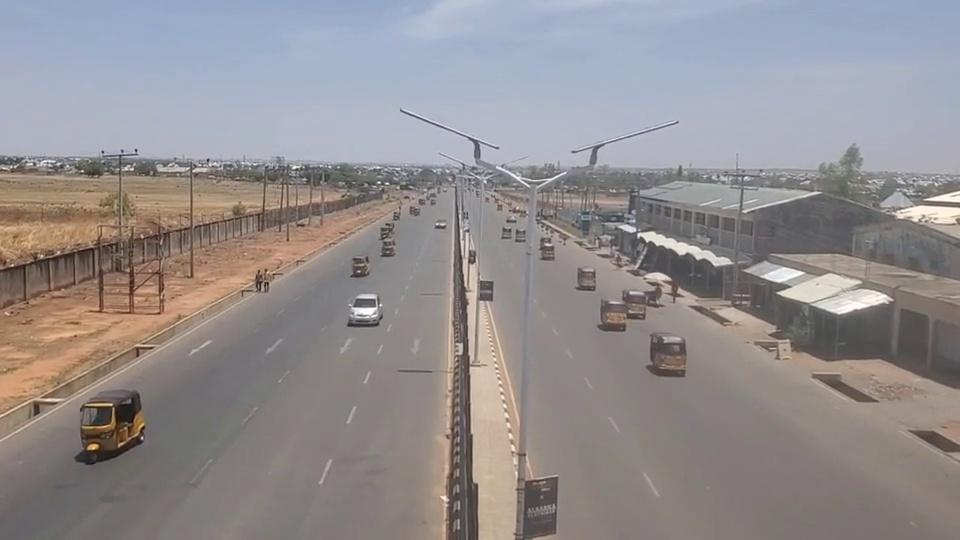car: (348, 293, 383, 326)
keke: (78, 388, 145, 462), (649, 331, 687, 376), (600, 299, 627, 330), (622, 290, 647, 319), (577, 266, 596, 289), (351, 256, 370, 276), (381, 239, 396, 256), (540, 243, 555, 260), (515, 228, 526, 242)
